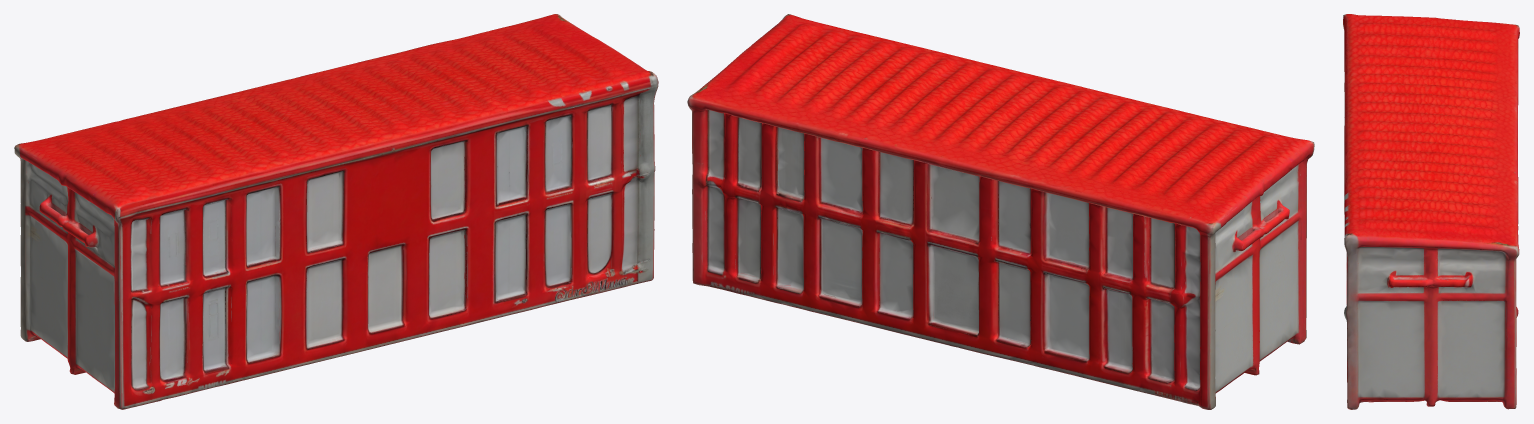
The model's file is rolloff-15-40m3.glb.
3 renders of one model, left to right at view 1: azimuth 30°, elevation 25°; view 2: azimuth 150°, elevation 25°; view 3: azimuth 270°, elevation 25°, orthographic. The views are drawn at different scales.
Bounding box in the file's own units: 2.01 × 0.7345 × 0.6634.
Materials: 1 (1 with a texture image).
